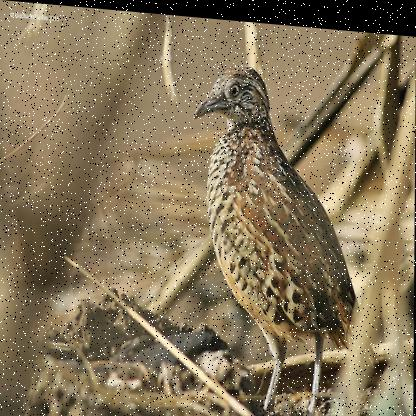Burung: (191, 56, 381, 412)
